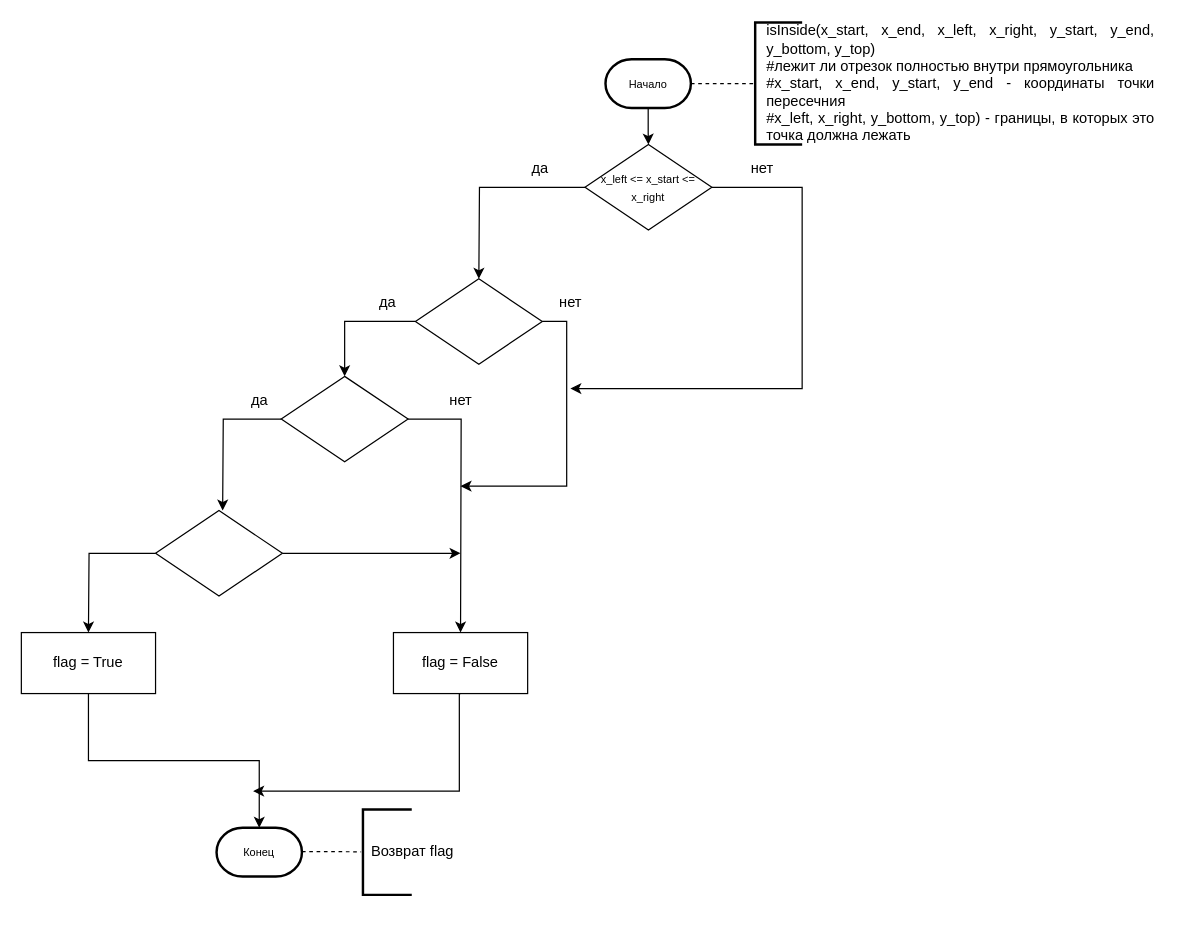
Image size: 1177x926. Some labels were removed from this diagram. The shapes that lost their labels are listed below. From the top down, each one's centre as x and y in pixels, then its label:
the point at 478,321: x_left <= x_end <= x_right
the point at 344,418: y_bottom <= y_start <= y_top
the point at 218,552: y_bottom <= y_end <= y_top
